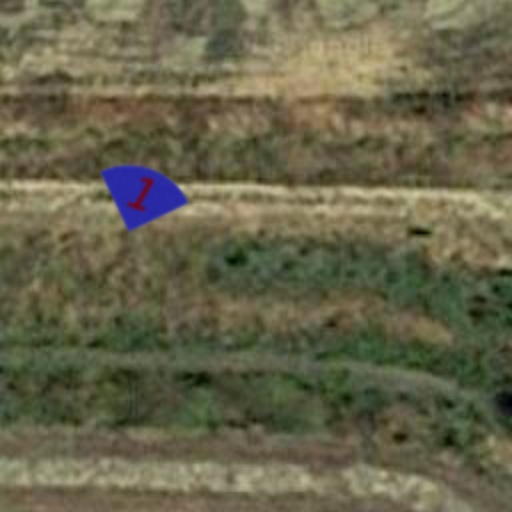quarter_circle: (84, 136, 200, 252)
